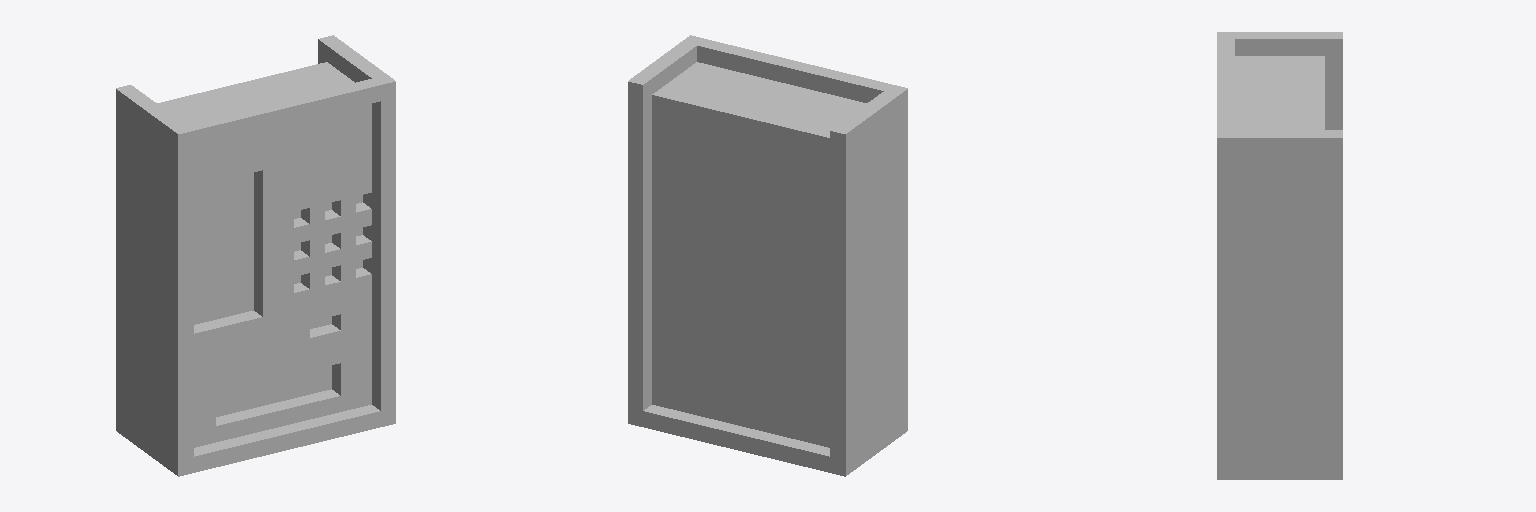
The model's file is soda.obj.
3 views of the same model, side by side, from view 1: azimuth 30°, elevation 25°; view 2: azimuth 150°, elevation 25°; view 3: azimuth 270°, elevation 25° (orthographic).
Visible parts, largest first — view 1: object 1; view 2: object 1; view 3: object 1.
Part boxes in pixels (x1,y1,x2,y2): object 1: (116,35,395,476); object 1: (628,35,907,476); object 1: (1217,32,1342,479).
Size of the model in its own units: 1.4 by 2.1 by 0.7.